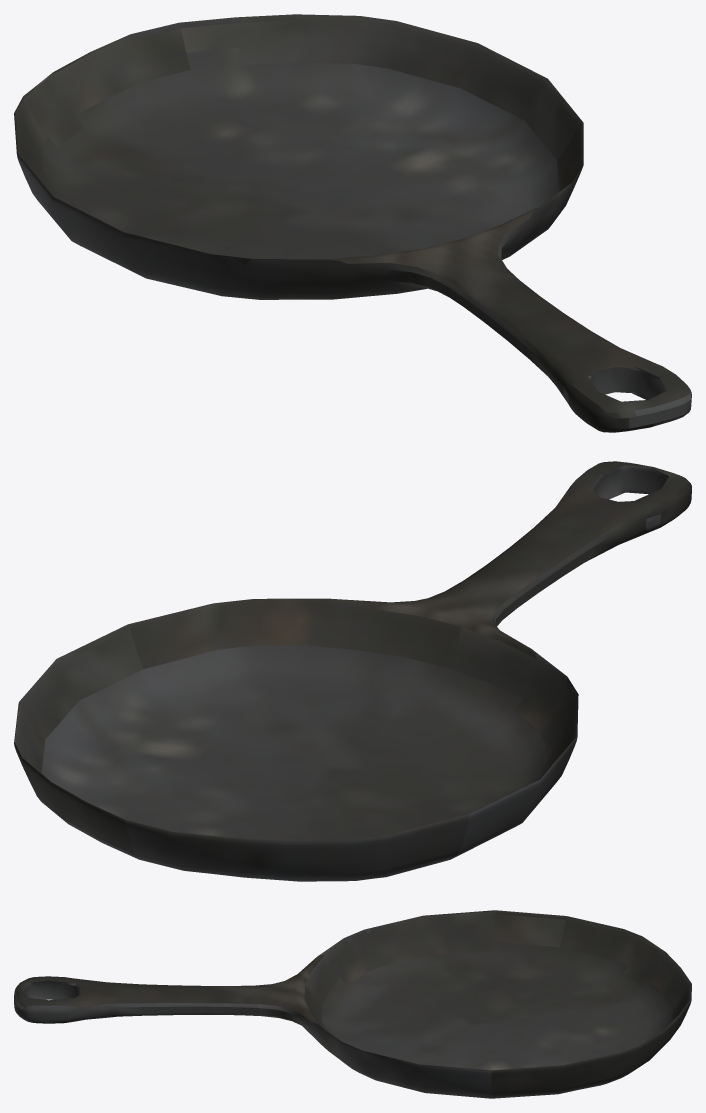
File: LP_FryingPan.glb
3 views of the same model, one above another, from view 1: azimuth 30°, elevation 25°; view 2: azimuth 150°, elevation 25°; view 3: azimuth 270°, elevation 25° (orthographic). The views are drawn at different scales.
Visible parts, largest first — view 1: Campfire.002; view 2: Campfire.002; view 3: Campfire.002.
Part boxes in pixels (box(x1,y1,x2,y2)): Campfire.002: box(14, 14, 691, 432); Campfire.002: box(14, 461, 691, 881); Campfire.002: box(14, 910, 691, 1098).
Bounding box in the file's own units: 0.4925 × 0.0637 × 0.8792.
1 material, 1 textured.
